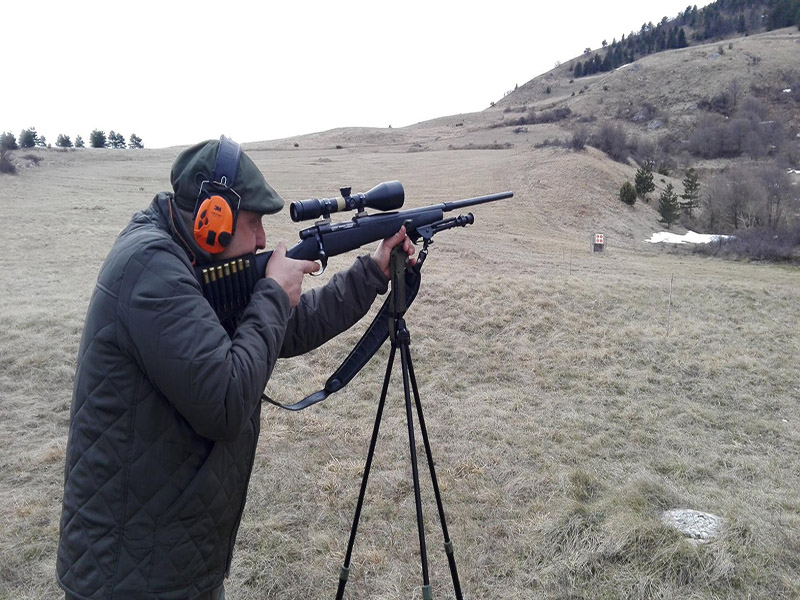cacciatore: (66, 103, 420, 593)
fucile: (179, 192, 513, 320)
